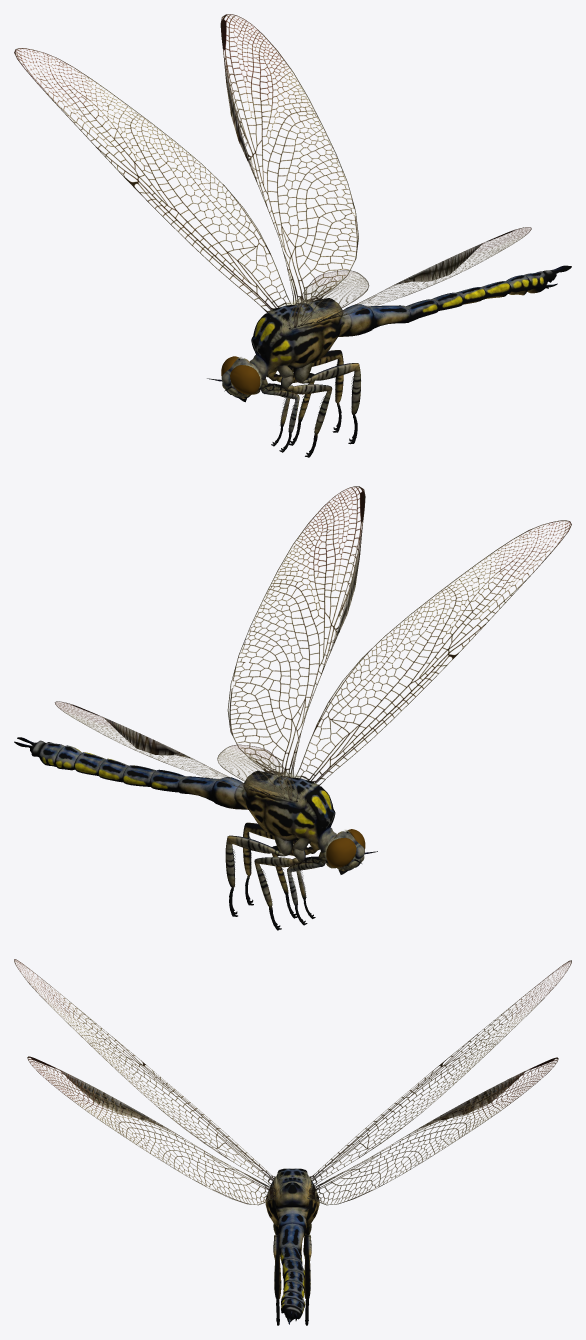
The model's file is meganeura.glb.
3 renders of one model, top to bottom at view 1: azimuth 30°, elevation 25°; view 2: azimuth 150°, elevation 25°; view 3: azimuth 270°, elevation 25°, orthographic. The views are drawn at different scales.
Parts seen in each view (by area): view 1: Animal; view 2: Animal; view 3: Animal.
Boxes of the visible parts, x1,y1,x2,y2 form: Animal: (14, 14, 571, 457); Animal: (14, 486, 571, 930); Animal: (14, 959, 571, 1325).
Bounding box in the file's own units: 2.42 × 1.85 × 3.2.
Materials: 2 (2 with a texture image).
